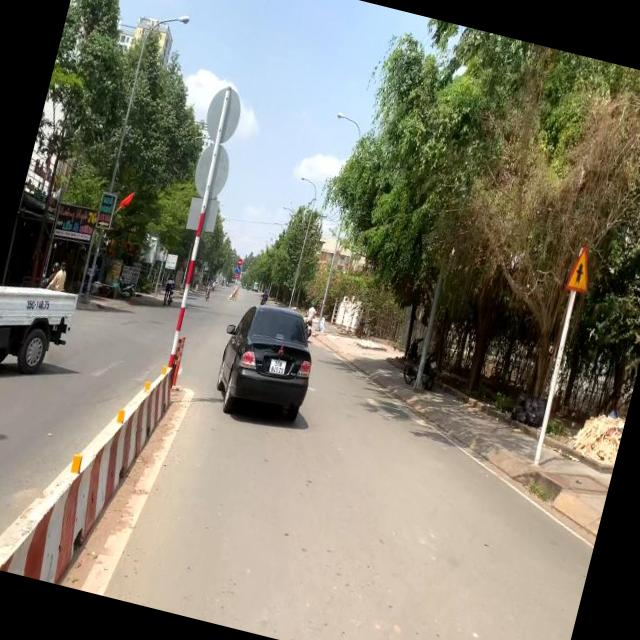W-207a: (562, 243, 596, 293)
